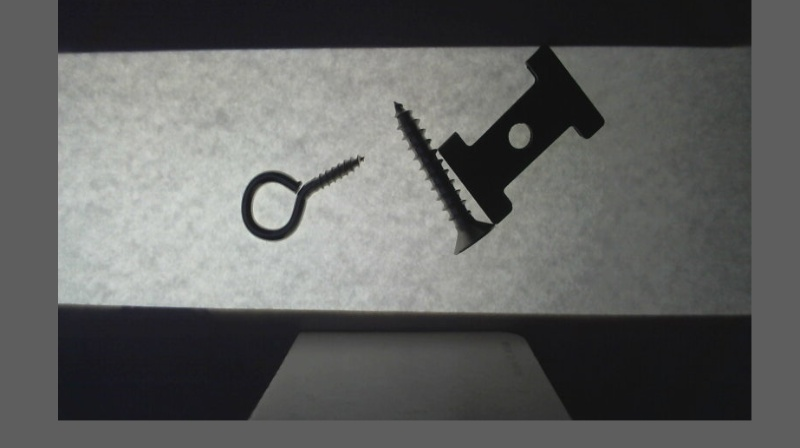O001: (239, 152, 366, 241)
O002: (437, 44, 605, 227)
S001: (393, 100, 496, 255)
